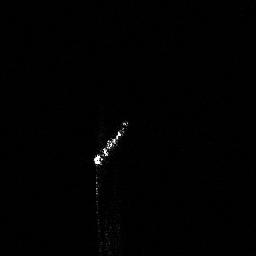ship: (90, 116, 132, 169)
